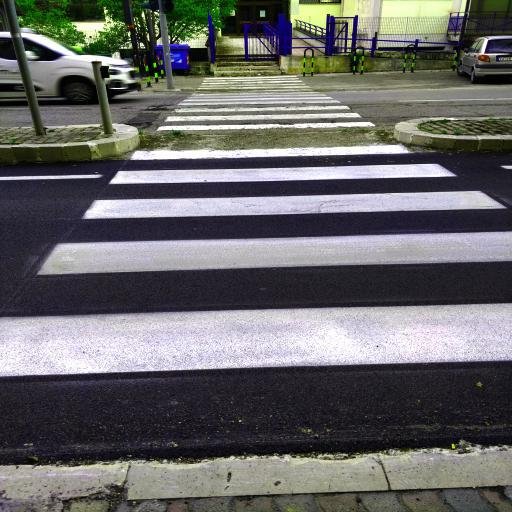crosswalk: (68, 156, 510, 228)
